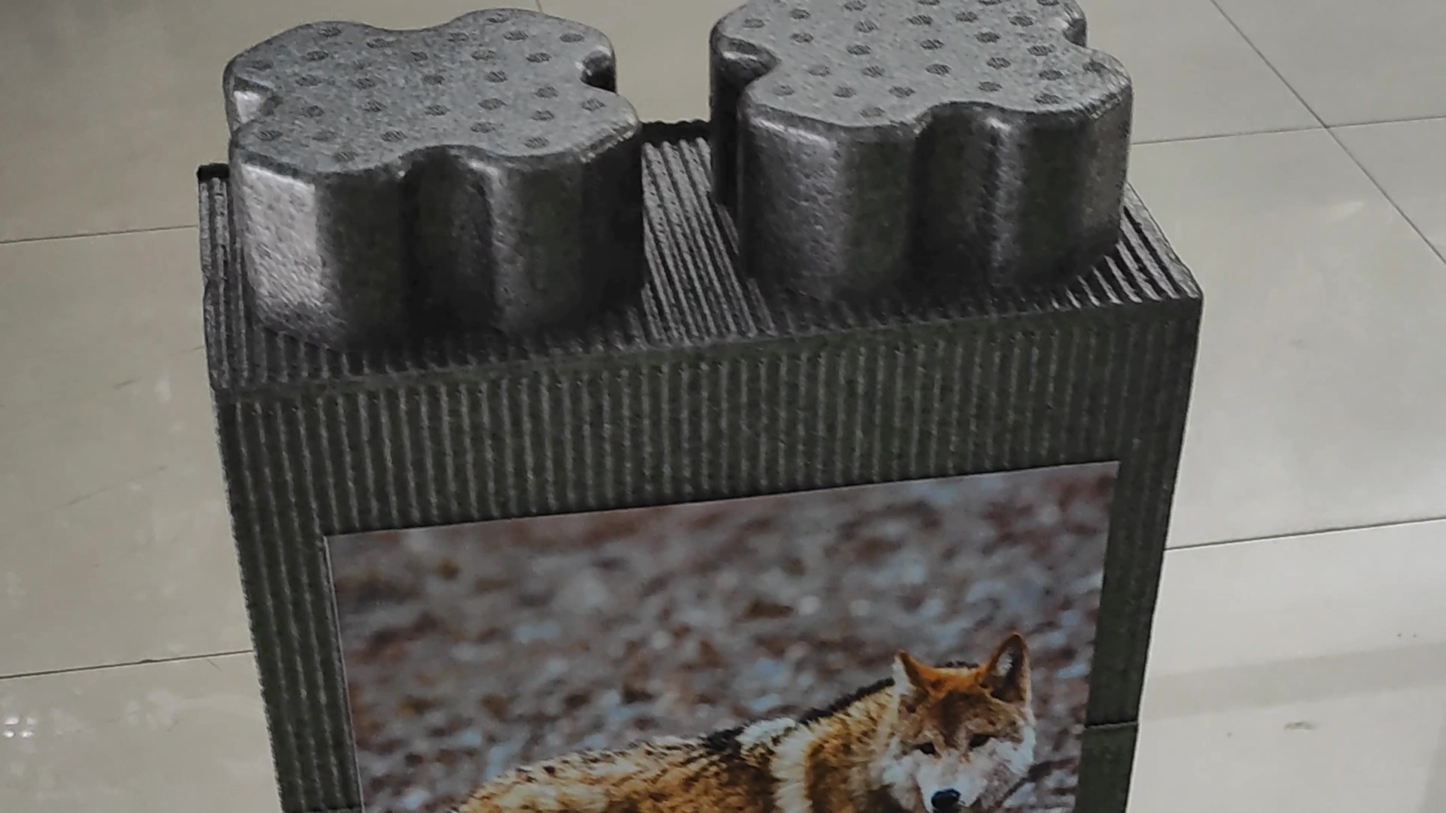wolf: (389, 604, 1059, 813)
